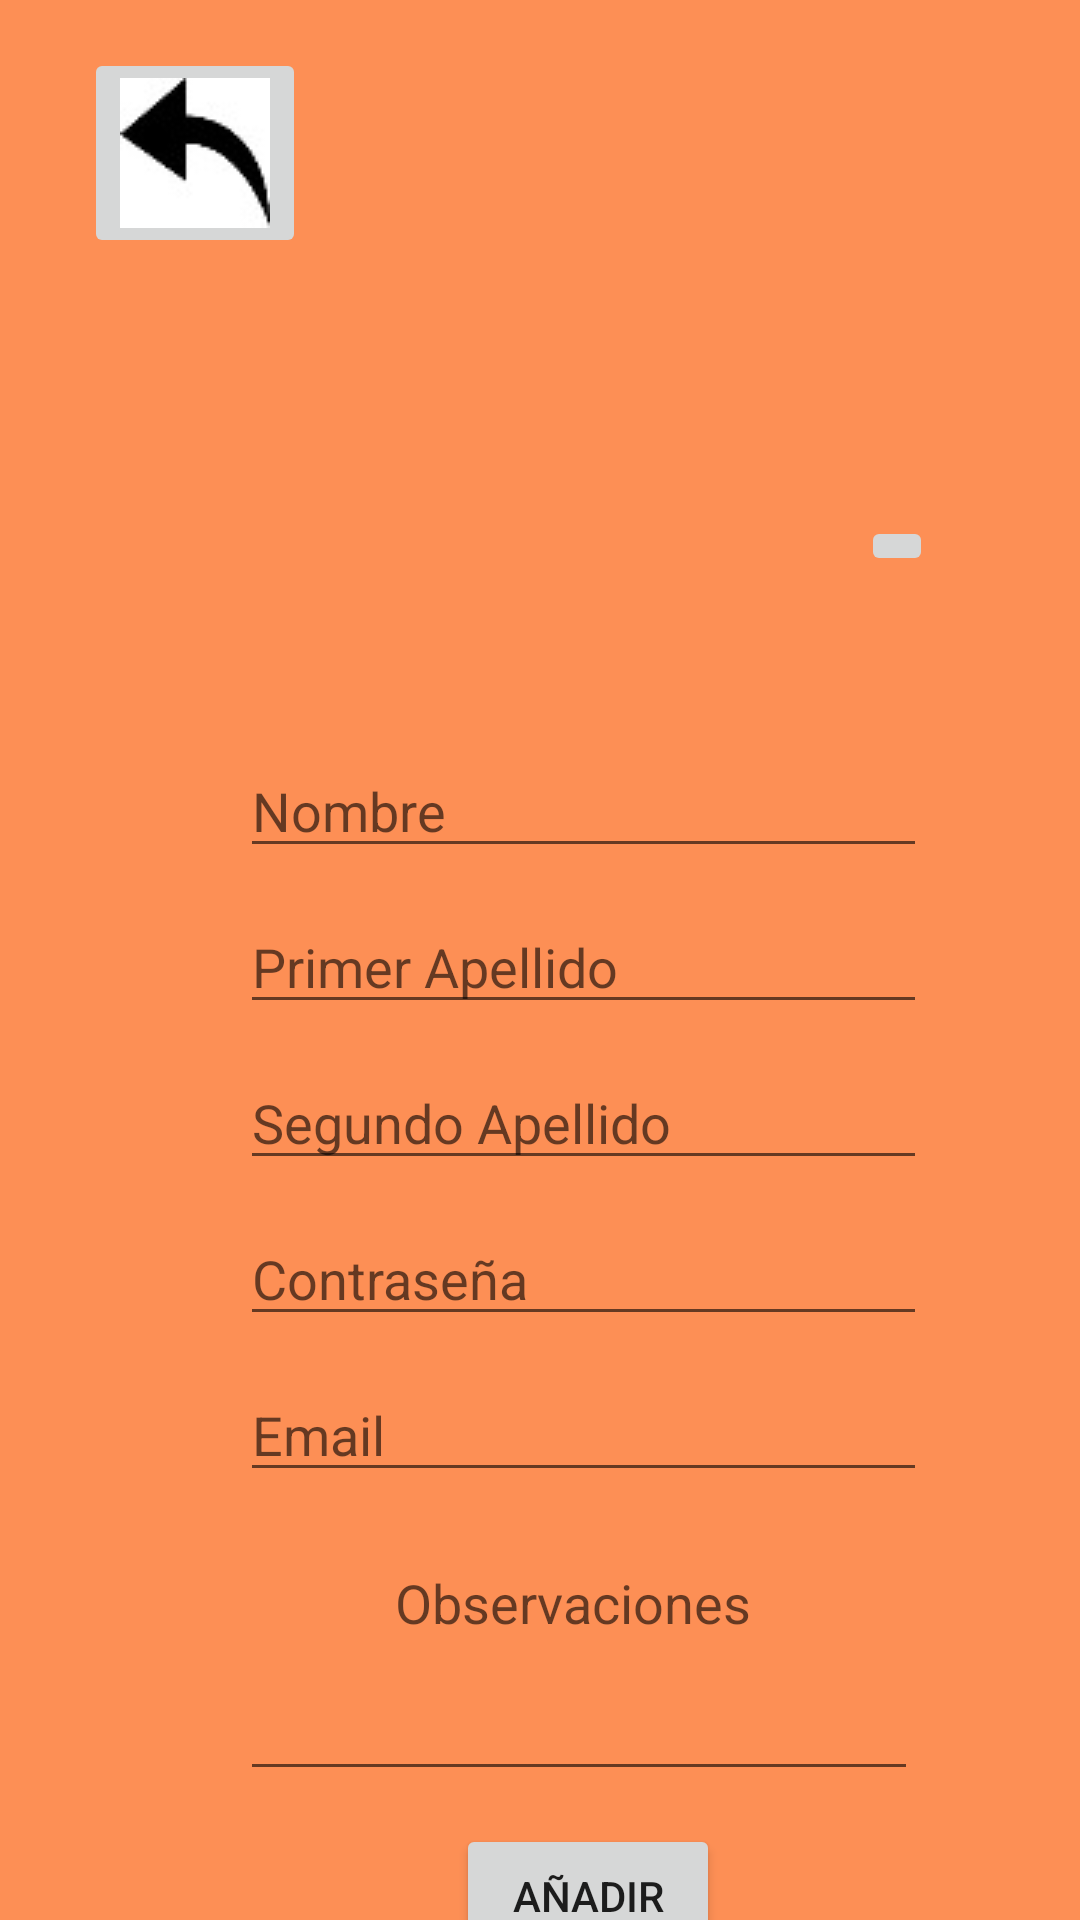

Point at icon controls on the screen. Image size 1080*1920, points as point (x, y).
volver: point (195, 153)
